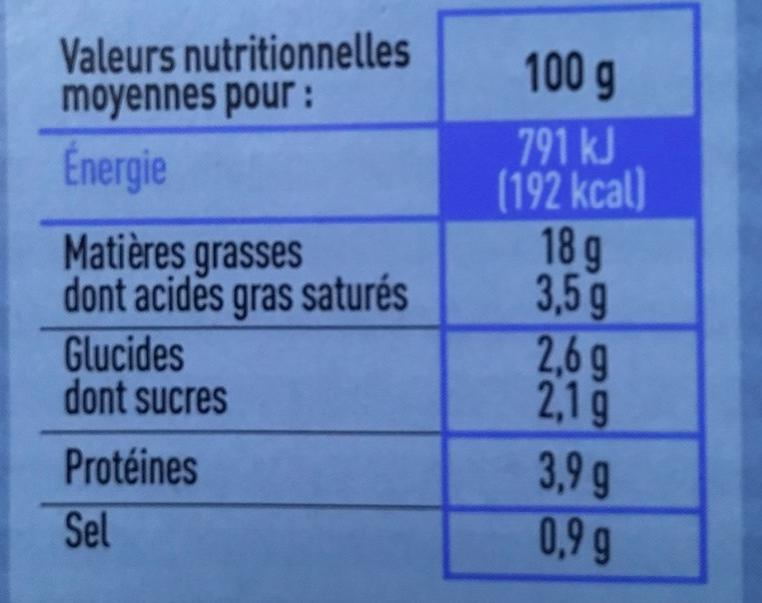column: (40, 29, 409, 561), (494, 47, 641, 558)
line: (44, 122, 643, 209), (53, 38, 610, 111), (69, 445, 616, 498), (66, 333, 621, 382), (75, 511, 623, 557), (53, 277, 610, 320), (46, 231, 605, 272), (68, 387, 615, 422)
table: (31, 9, 719, 579)
